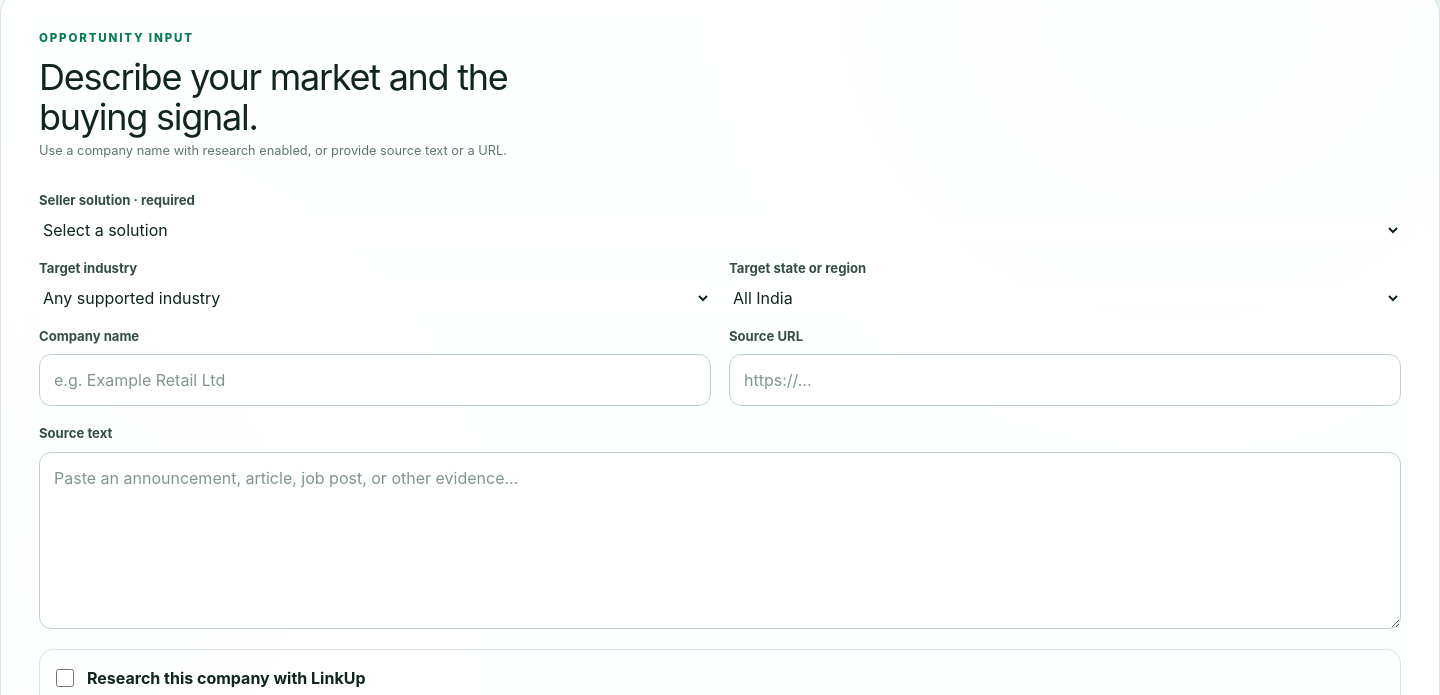
it: AnalyzeExperience › keeps generation successful when analytics is unavailable
Select "Warehouse Management System" in the dropdown labelled "Seller solution": (720, 230) [39,219,1401,241]
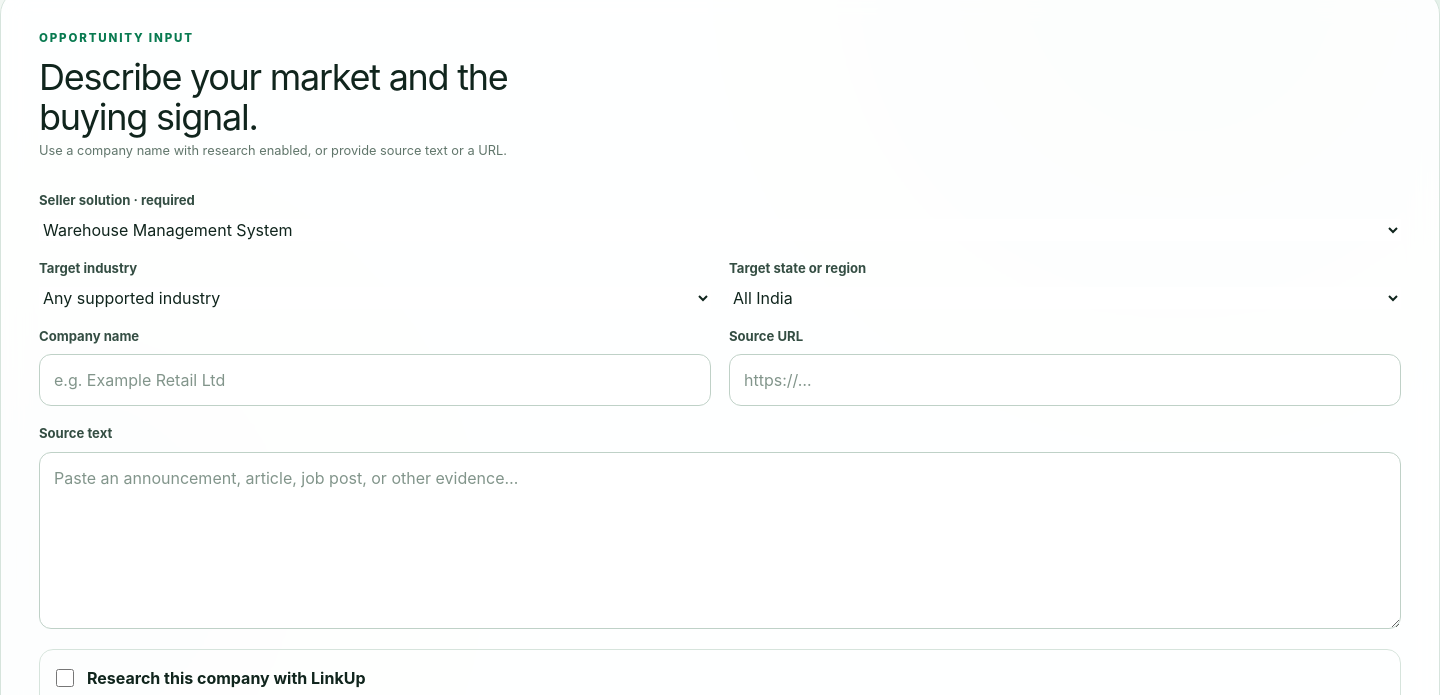
In the text box labelled "Source text": (720, 540) [39,452,1401,629], type "A company announced a new fulfilment centre in India."
(page scrolled)
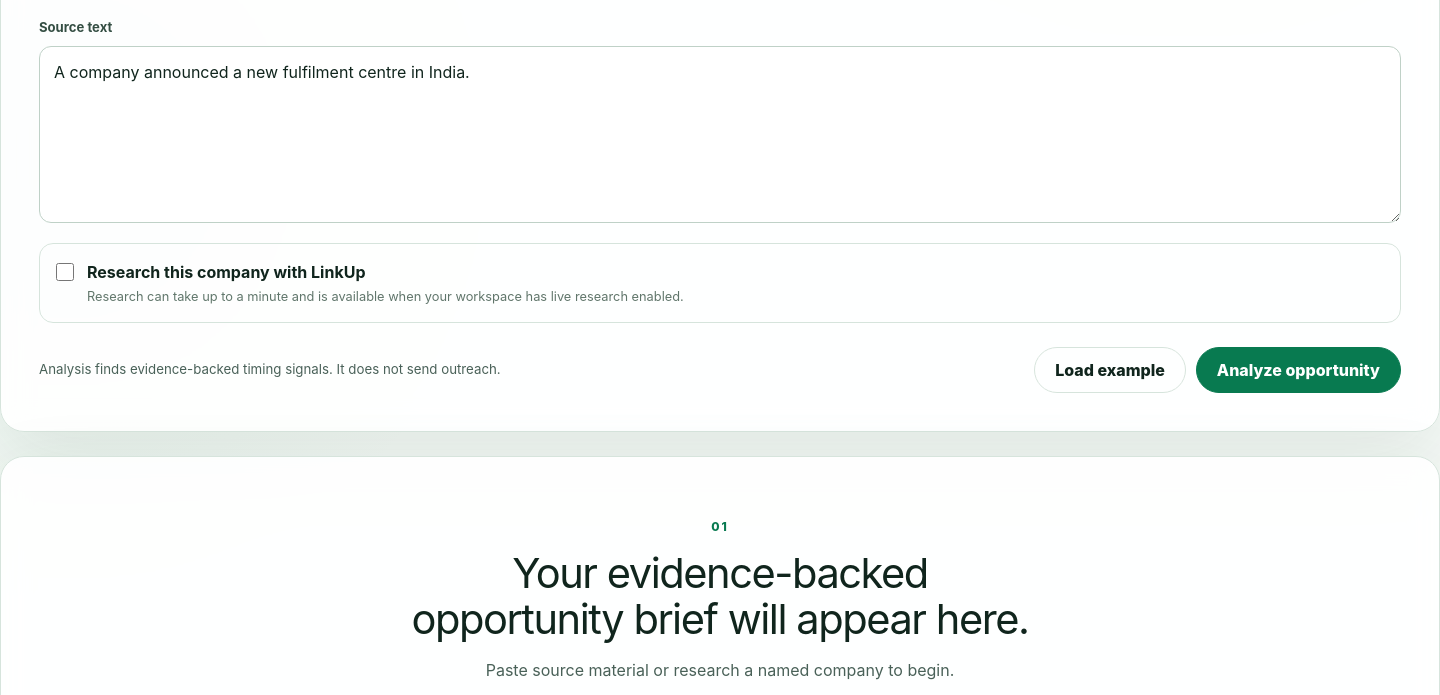
Click the button "Analyze opportunity": (1298, 370) [1196,347,1401,393]
(page scrolled)
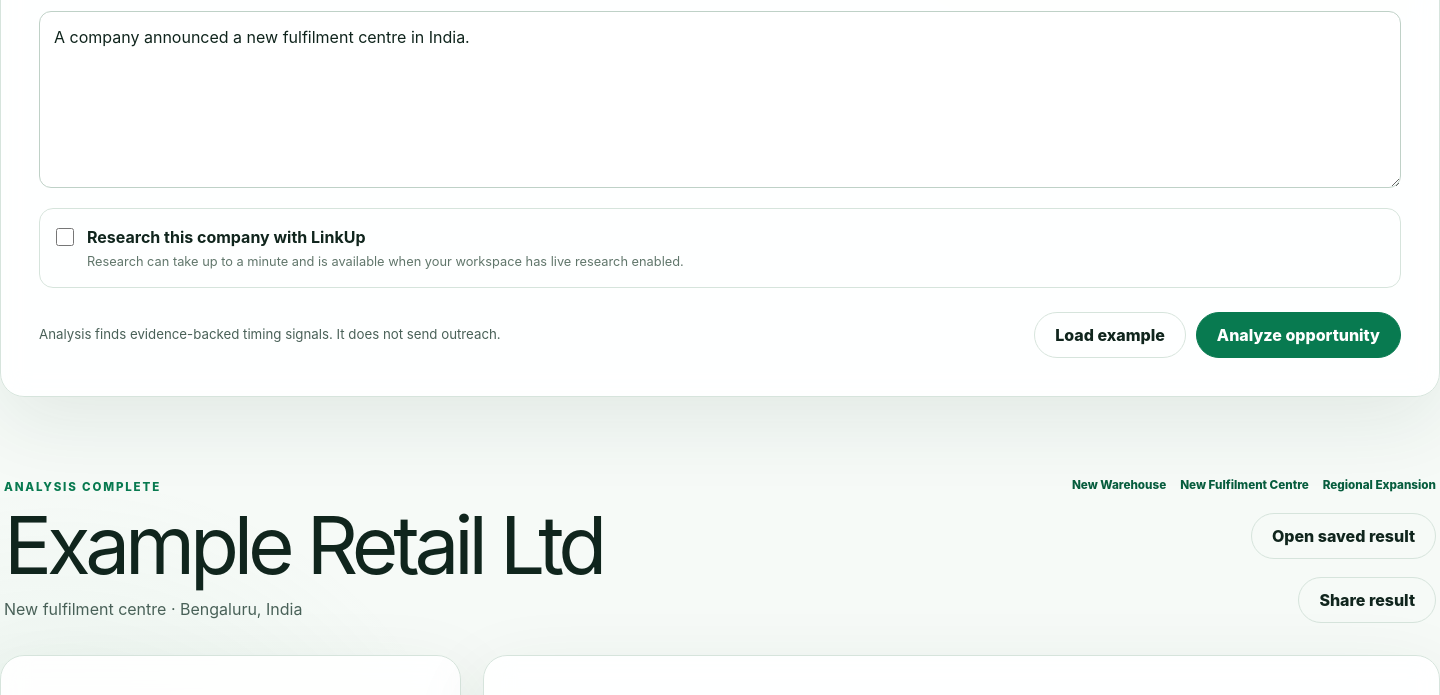
Expected: the button "Analyze opportunity" is enabled, [1196,312,1401,358]
Expected: the text "Analysis complete" is shown, [4,480,161,494]
